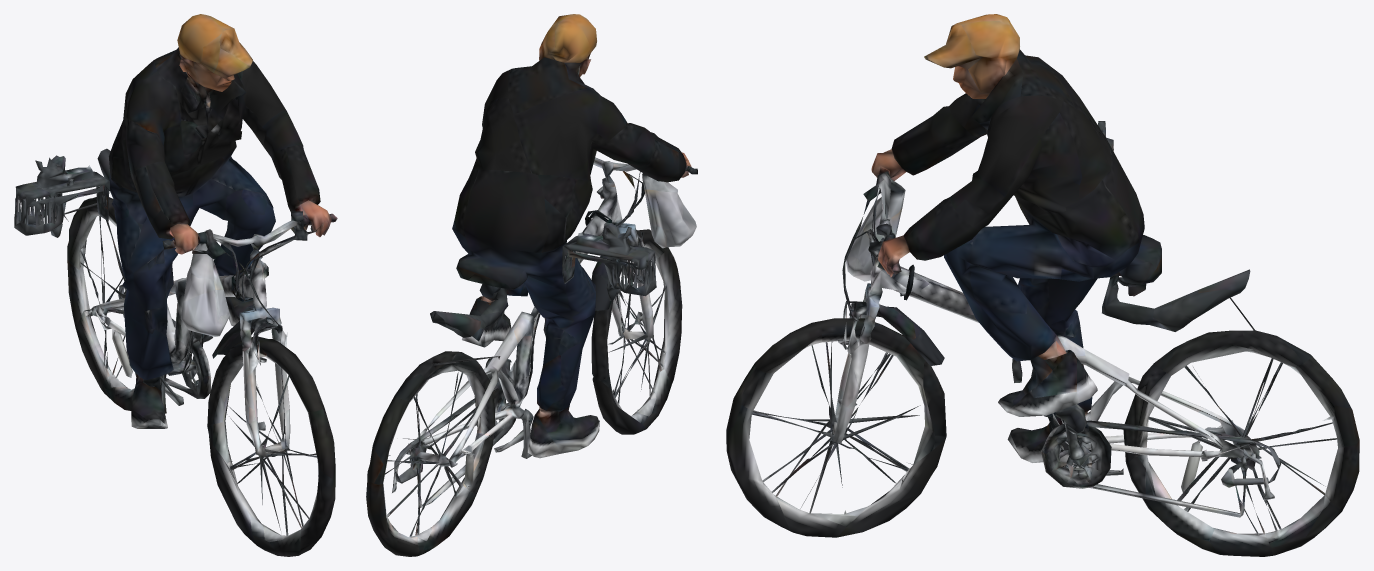
File: mtn_bike-3d.glb
3 renders of one model, left to right at view 1: azimuth 30°, elevation 25°; view 2: azimuth 150°, elevation 25°; view 3: azimuth 270°, elevation 25°, orthographic. The views are drawn at different scales.
Parts seen in each view (by area): view 1: tripo_node_18ed5d89-c0b7-4996-9b82-339100689617; view 2: tripo_node_18ed5d89-c0b7-4996-9b82-339100689617; view 3: tripo_node_18ed5d89-c0b7-4996-9b82-339100689617.
Boxes of the visible parts, x1=… form: tripo_node_18ed5d89-c0b7-4996-9b82-339100689617: x1=14, y1=14, x2=337, y2=556; tripo_node_18ed5d89-c0b7-4996-9b82-339100689617: x1=366, y1=14, x2=697, y2=556; tripo_node_18ed5d89-c0b7-4996-9b82-339100689617: x1=726, y1=14, x2=1359, y2=556.
Size of the model in its own units: 0.4382 by 0.892 by 0.9781.
Materials: 1 (1 with a texture image).
